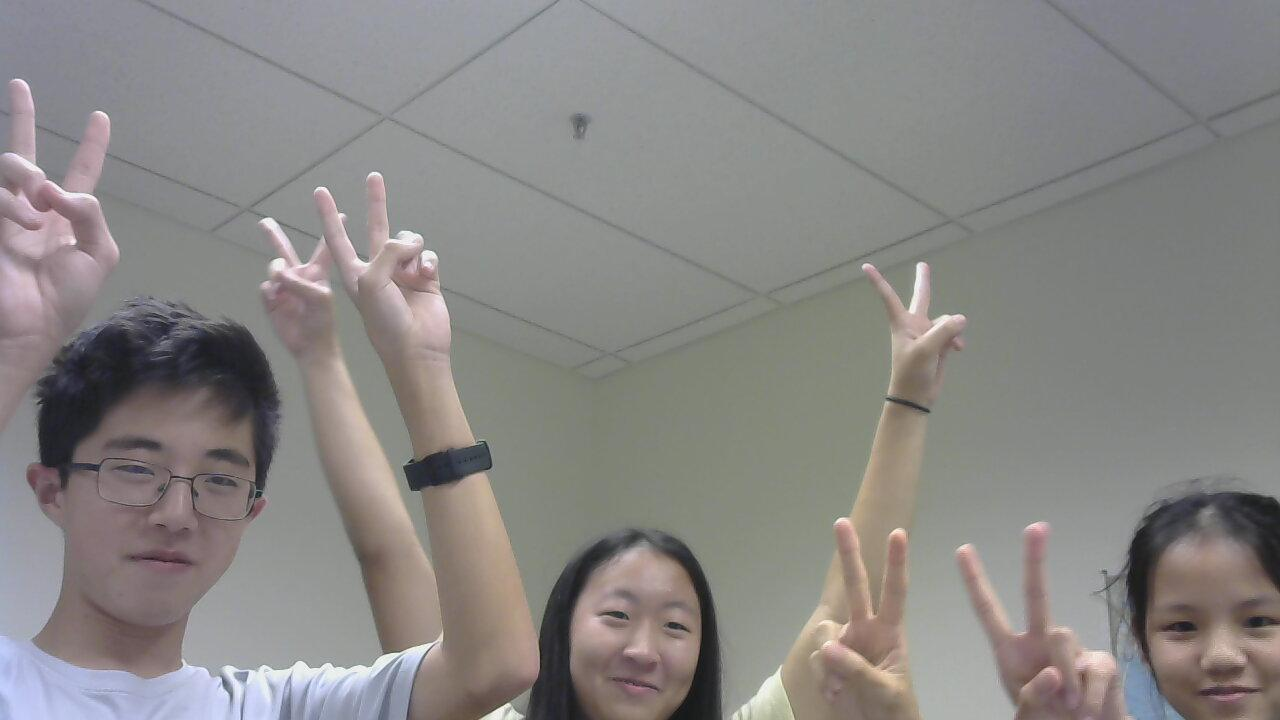peace: (941, 512, 1124, 720), (0, 67, 127, 366), (301, 167, 469, 356), (806, 512, 915, 716), (856, 257, 977, 393), (246, 212, 344, 365)
